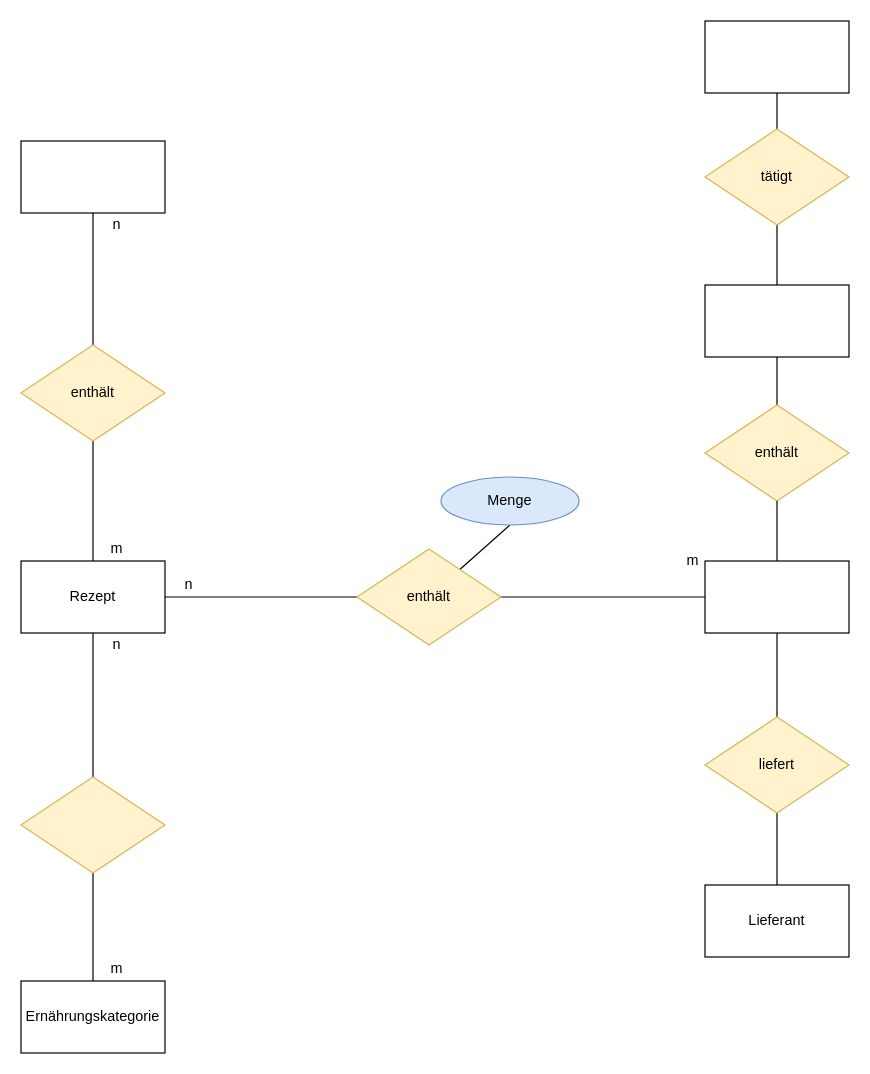
This 870x1074 diagram has some shape labels left out. The shapes that lost their labels are listed below. From the top down, each one's box as (x1, y1, x2, y2) in pixels, then its label:
(704, 20, 849, 93): Kunde
(20, 140, 165, 213): Allergene
(704, 284, 849, 357): Bestellung
(704, 560, 849, 633): Zutat
(20, 776, 165, 873): hat
